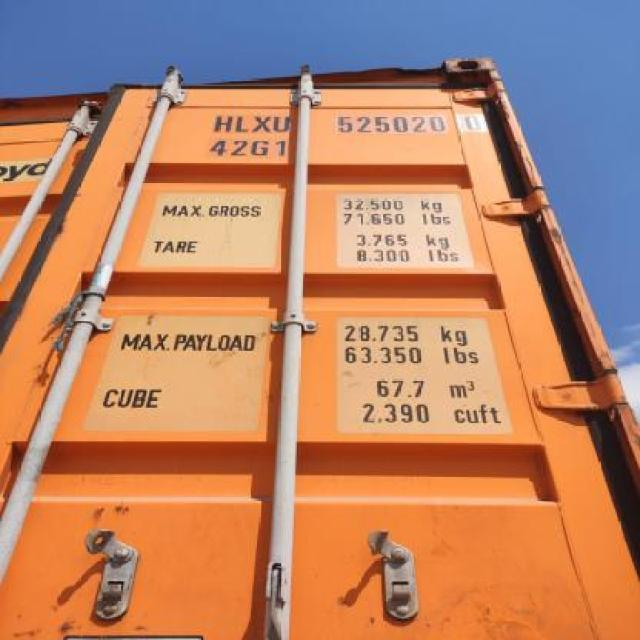ISO: (206, 136, 295, 162)
container_number: (212, 104, 488, 140)
